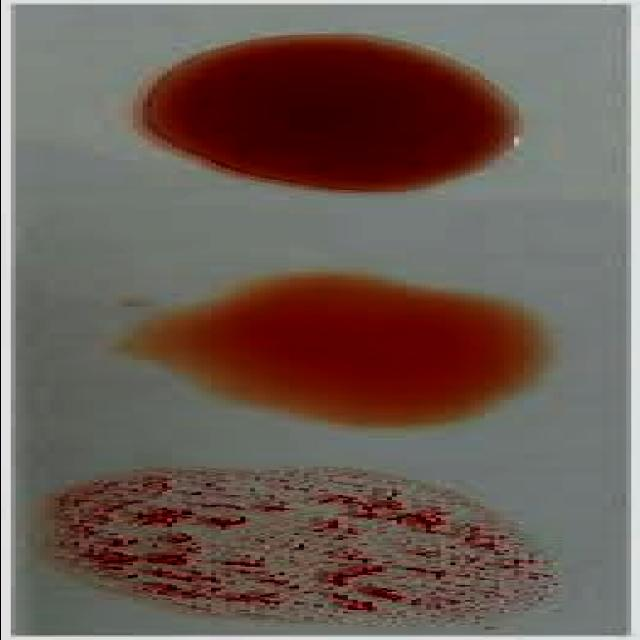D: (38, 462, 536, 618)
